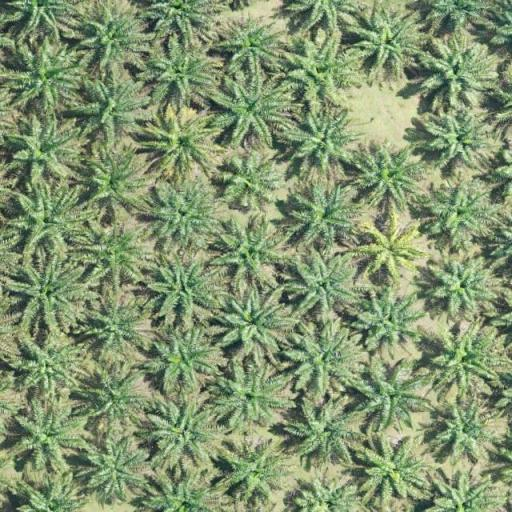Ganoderma: (368, 227, 414, 268)
